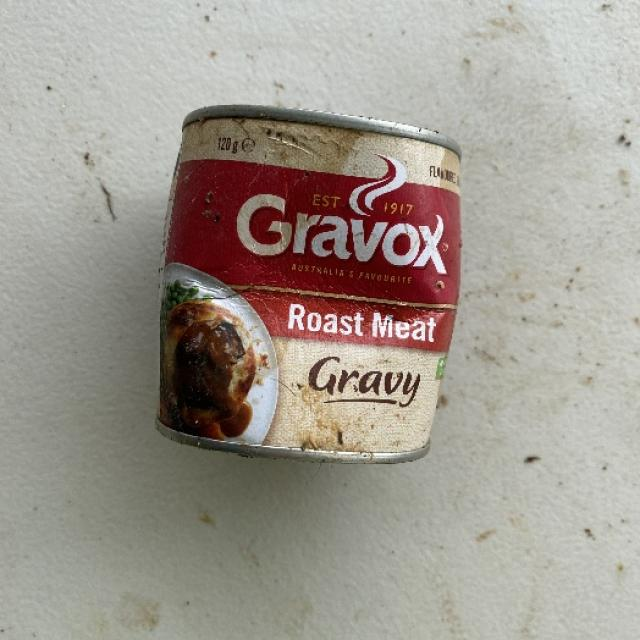metal: (154, 101, 463, 464)
